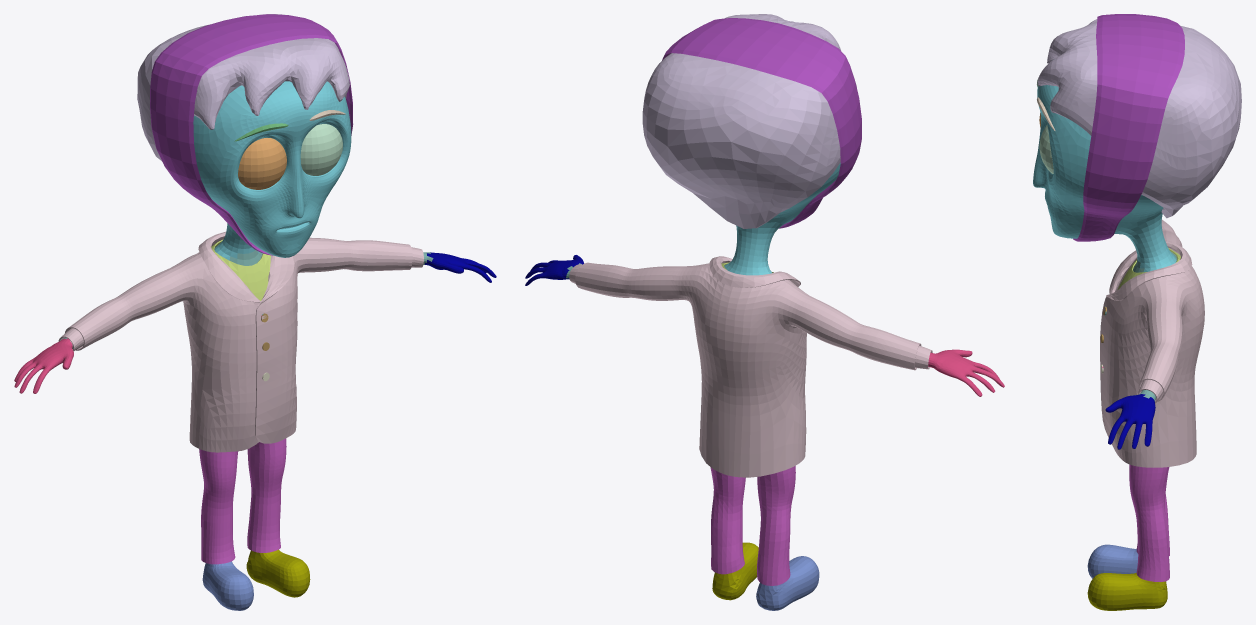
The model's file is full_17.glb.
3 views of the same model, side by side, from view 1: azimuth 30°, elevation 25°; view 2: azimuth 150°, elevation 25°; view 3: azimuth 270°, elevation 25° (orthographic).
Visible parts, largest first — view 1: world; view 2: world; view 3: world.
Boxes of the visible parts, x1,y1,x2,y2 form: world: (14, 14, 496, 610); world: (525, 14, 1004, 610); world: (1033, 14, 1241, 610).
Size of the model in its own units: 0.643 by 0.7256 by 0.2451.
